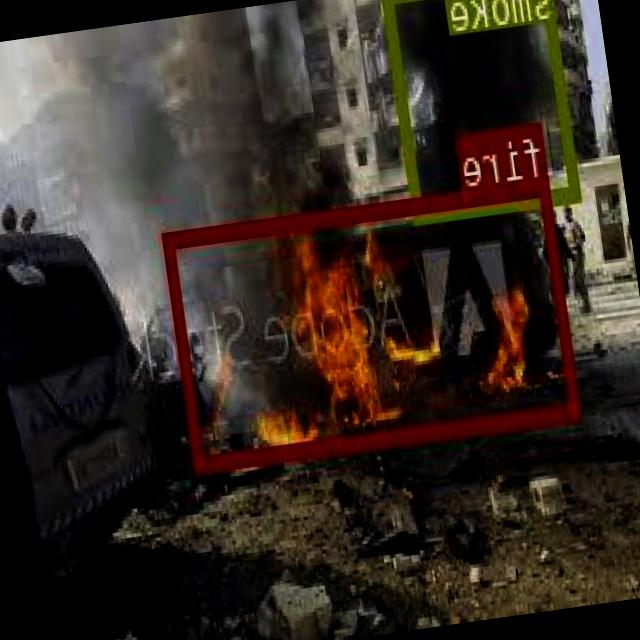fire: (165, 178, 582, 468)
smoke: (385, 0, 582, 222)
